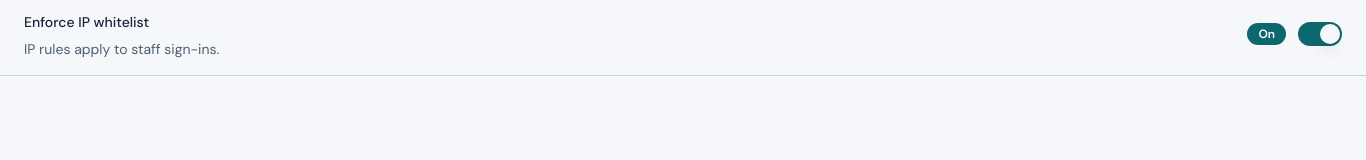
Scenario: persists disabling and re-enabling without touching existing rules
Later steps or results of the test are not shown.
Step 1. Click the switch → (1320, 34), box left=1298, top=22, right=1342, bottom=46
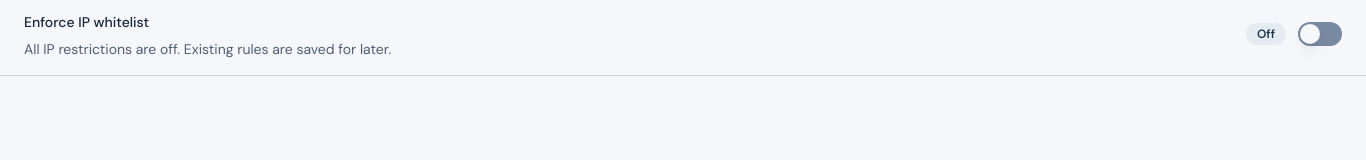
Check: the text "All IP restrictions are off." is shown, box left=24, top=40, right=391, bottom=58
